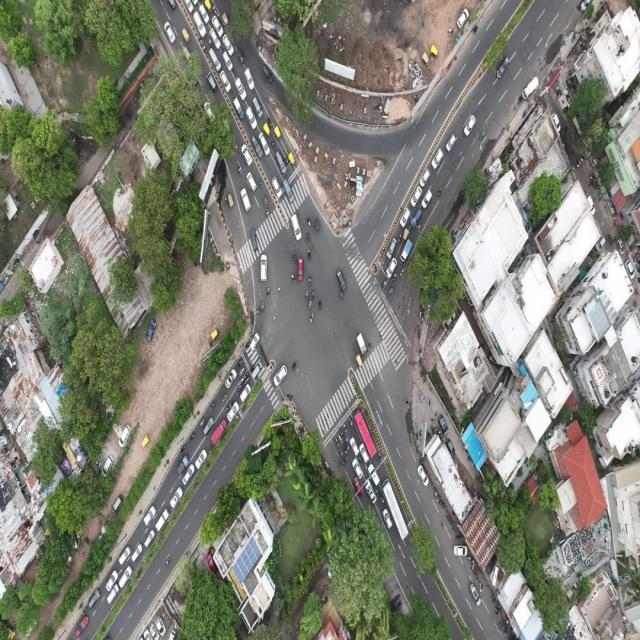3W: (181, 24, 192, 45), (181, 44, 193, 63), (432, 41, 441, 57), (355, 353, 364, 369), (226, 192, 236, 206), (235, 159, 244, 174), (142, 435, 151, 448), (288, 149, 295, 165), (210, 329, 219, 341), (424, 51, 431, 65), (274, 126, 281, 139), (403, 229, 411, 240), (205, 0, 212, 9)
Bus: (381, 482, 410, 540), (356, 407, 378, 458)
Cars: (163, 19, 179, 47), (156, 509, 172, 535), (524, 76, 541, 100), (208, 44, 221, 72), (251, 135, 264, 162), (273, 364, 288, 387), (271, 176, 285, 200), (213, 14, 226, 39), (233, 74, 246, 99), (282, 177, 295, 202), (496, 56, 510, 79), (258, 131, 271, 155), (193, 11, 205, 37), (386, 253, 399, 277), (365, 481, 378, 505), (469, 581, 482, 605), (105, 569, 118, 593), (291, 213, 302, 241), (121, 568, 134, 591), (119, 426, 132, 449), (463, 114, 476, 137), (432, 145, 445, 167), (225, 368, 238, 390), (253, 93, 264, 119), (241, 186, 252, 212), (260, 255, 270, 283), (220, 68, 232, 91), (368, 463, 380, 486), (246, 108, 258, 131), (248, 331, 260, 354), (241, 146, 254, 167), (227, 403, 241, 422), (235, 41, 247, 63), (410, 207, 422, 229), (419, 164, 432, 184), (170, 488, 183, 508), (418, 466, 429, 489), (244, 67, 255, 90), (336, 269, 348, 290), (206, 73, 218, 94), (387, 234, 399, 255), (399, 204, 410, 226), (411, 184, 422, 206), (197, 452, 209, 472), (457, 9, 469, 29), (145, 530, 157, 550), (224, 36, 236, 56), (132, 545, 144, 565), (263, 65, 275, 85), (118, 548, 131, 566), (351, 456, 362, 477), (77, 617, 88, 638), (149, 319, 159, 342), (422, 189, 434, 208), (88, 590, 100, 609), (234, 95, 244, 117), (447, 131, 458, 151), (247, 171, 257, 193), (276, 151, 286, 173), (252, 362, 264, 380), (240, 385, 252, 403), (145, 505, 157, 522), (113, 497, 123, 517), (353, 477, 363, 497), (251, 228, 260, 250), (454, 542, 467, 557), (297, 256, 304, 281)
LCV: (356, 330, 368, 354), (176, 455, 188, 473), (312, 217, 321, 234)
M2W: (291, 360, 298, 375), (472, 19, 478, 34), (260, 301, 266, 316), (307, 275, 314, 287), (381, 278, 387, 291), (337, 433, 344, 444), (164, 555, 171, 566), (210, 445, 216, 457), (398, 231, 404, 243), (307, 300, 313, 312), (291, 251, 297, 263), (305, 233, 311, 245), (318, 298, 324, 310), (479, 130, 485, 142), (401, 263, 407, 274), (181, 443, 187, 454), (291, 273, 297, 284), (310, 311, 315, 324), (238, 375, 244, 385), (200, 417, 206, 427), (307, 250, 313, 260), (305, 289, 311, 299), (438, 188, 444, 198), (336, 461, 341, 473), (190, 432, 195, 444), (392, 275, 399, 283), (349, 416, 354, 427), (344, 435, 349, 446), (347, 444, 352, 455), (344, 455, 349, 466), (306, 216, 311, 227), (244, 376, 250, 385), (389, 287, 395, 296), (311, 291, 317, 300), (340, 289, 344, 302), (334, 436, 339, 446), (339, 426, 344, 436), (378, 452, 383, 462), (344, 450, 350, 458), (258, 351, 263, 360), (210, 401, 215, 410), (238, 359, 243, 368), (266, 287, 270, 298), (344, 421, 348, 430), (340, 448, 344, 457), (257, 304, 260, 315), (223, 394, 227, 402), (236, 391, 239, 398), (245, 369, 248, 376), (225, 403, 228, 410)
MAV: (400, 238, 414, 261)
Truck: (211, 420, 228, 448)
